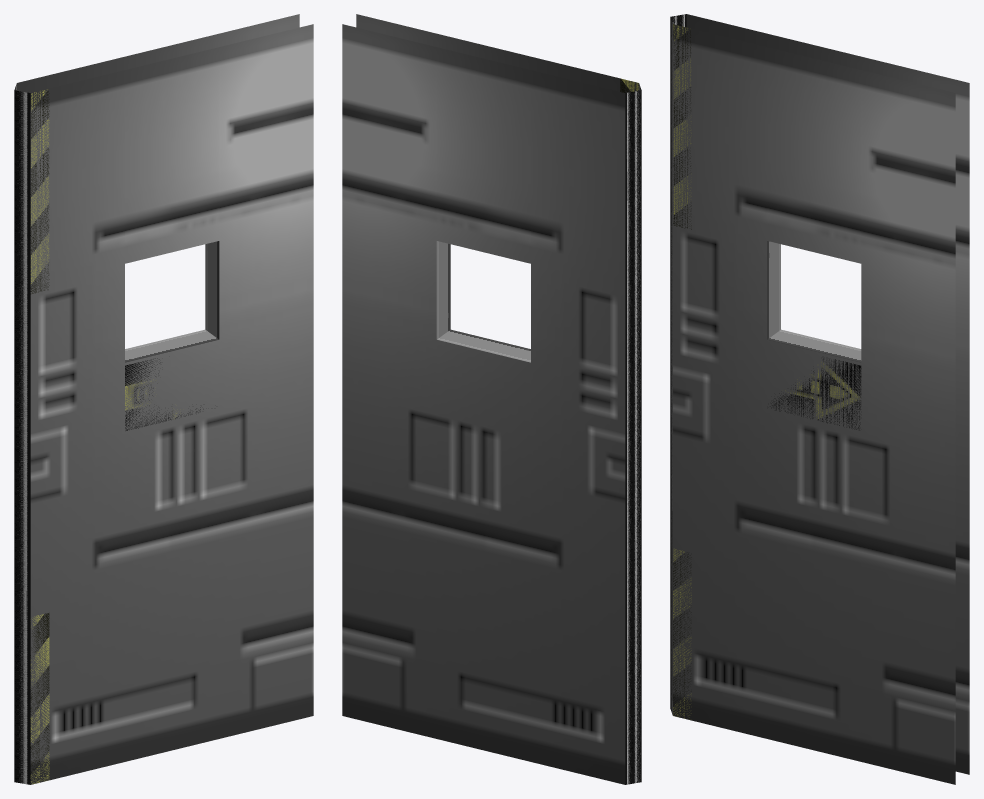
File: primary_061.glb
The picture shows the model from 3 angles, left to right: view 1: azimuth 30°, elevation 25°; view 2: azimuth 150°, elevation 25°; view 3: azimuth 330°, elevation 25°; orthographic projection.
Visible parts, largest first — view 1: Object; view 2: Object; view 3: Object.
Part boxes in pixels (x1,y1,x2,y2): Object: [14, 14, 313, 784]; Object: [342, 14, 641, 784]; Object: [670, 14, 969, 784].
Size of the model in its own units: 1.28 by 2.89 by 0.1049.
7 materials, 7 textured.
